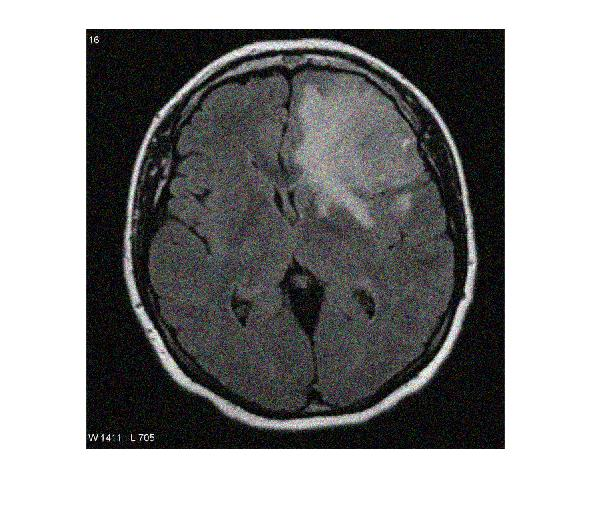Brain_Cancer: (305, 84, 412, 199)
